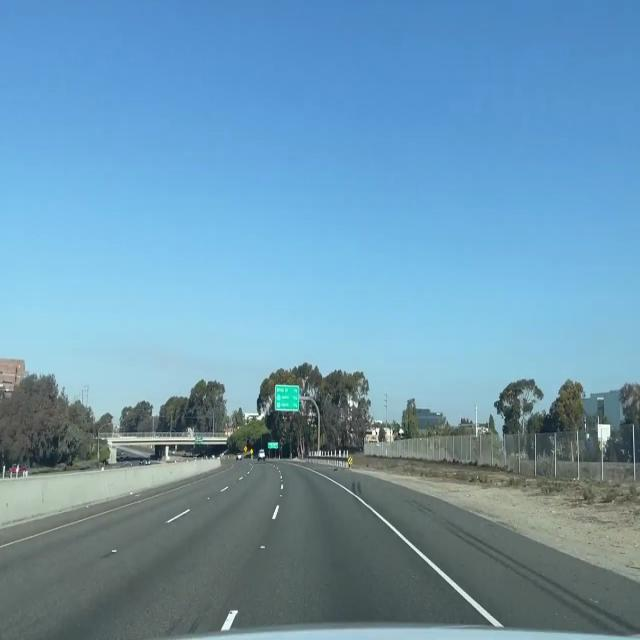street-signs: (276, 384, 300, 411), (267, 441, 279, 449)
